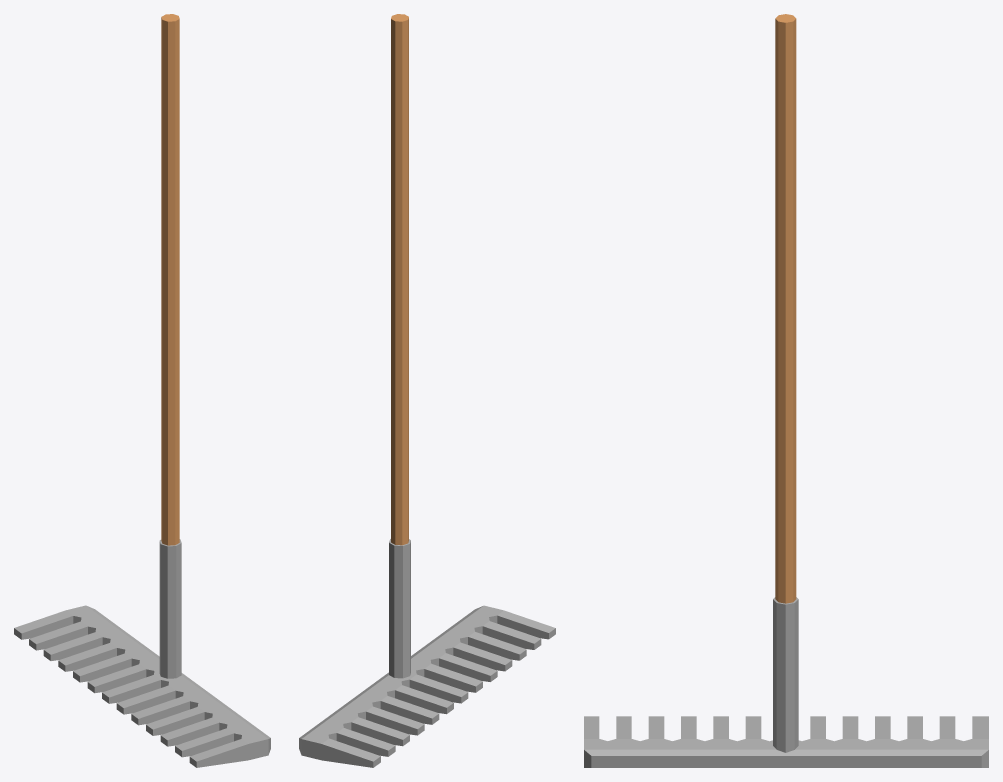
The model's file is Rake.fbx.
The picture shows the model from 3 angles, left to right: view 1: azimuth 30°, elevation 25°; view 2: azimuth 150°, elevation 25°; view 3: azimuth 270°, elevation 25°; orthographic projection. The views are drawn at different scales.
Parts seen in each view (by area): view 1: Rake; view 2: Rake; view 3: Rake.
Boxes of the visible parts, <box> form: Rake: <box>14,14,270,767</box>; Rake: <box>299,14,555,767</box>; Rake: <box>584,14,988,767</box>.
Size of the model in its own units: 20.59 by 170 by 83.85.
